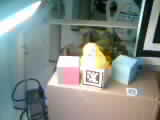duck: (68, 36, 108, 69)
